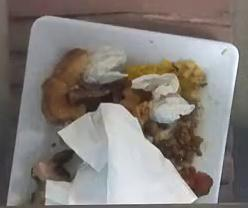beans: (142, 109, 213, 196)
bread_crust: (42, 48, 88, 124)
rice: (127, 60, 207, 103)
